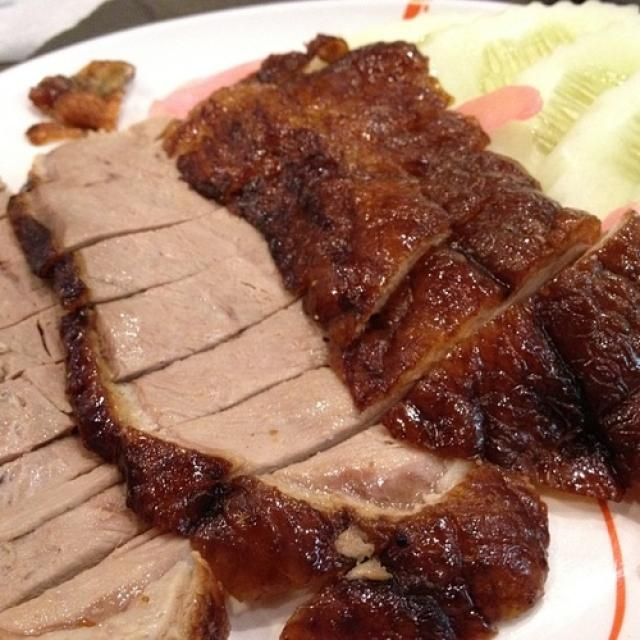烧串烤肉: (23, 34, 623, 620)
